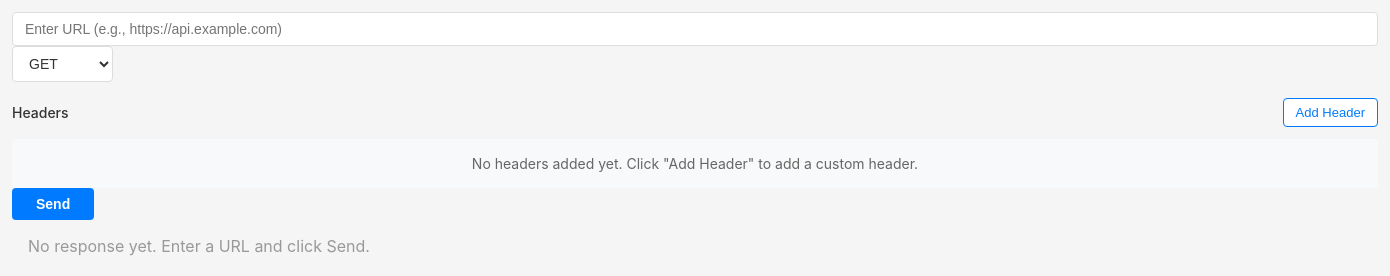
Test: Integration: Custom Headers Workflow › should complete full workflow: add Authorization header → send request → verify header in request
Note: User enters URL
Type "https://api.example.com/protected" into the field with placeholder "Enter URL (e.g., https://api.example.com)". click: [695, 29]
box: [12,12,1378,46]
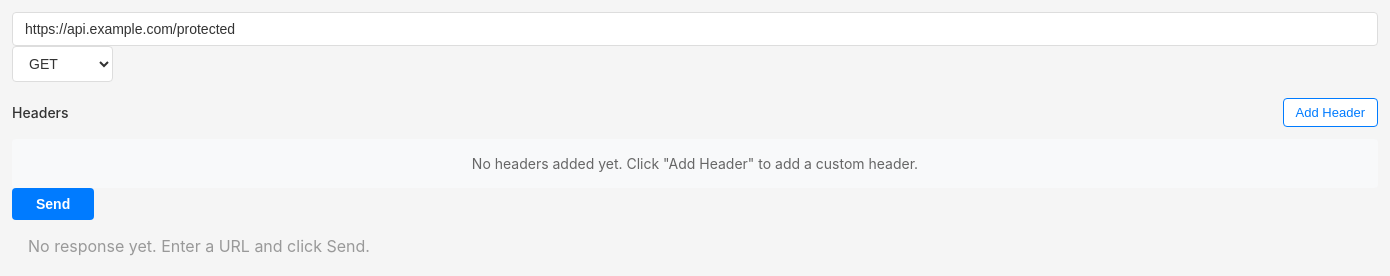
Note: User adds a header
Click the button "Add Header". click: [1330, 112]
box: [1283,98,1378,127]
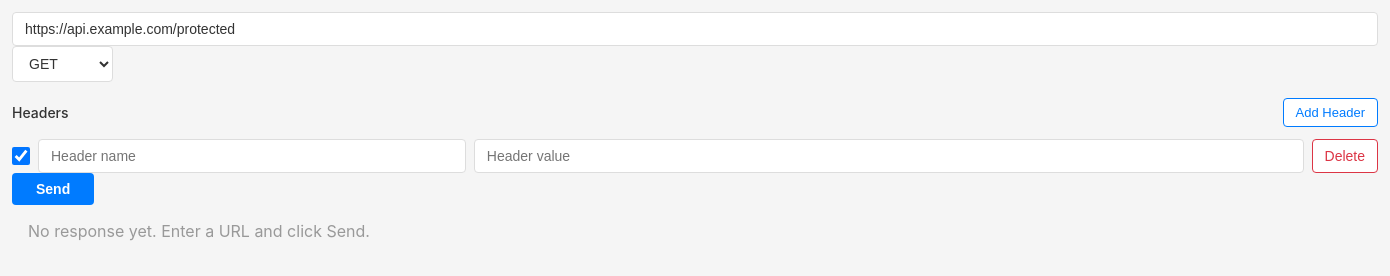
Check: the field with placeholder "Header name" is shown
Type "Authorization" into the field with placeholder "Header name". click: [252, 156]
box: [38,139,466,173]
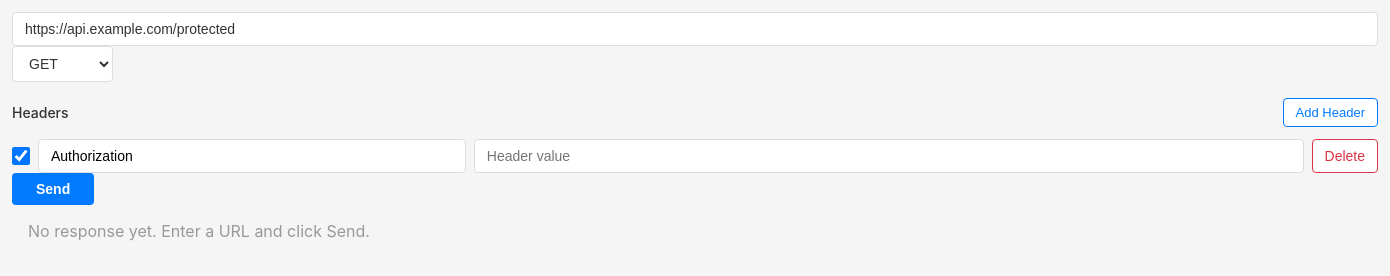
Type "Bearer token123" into the field with placeholder "Header value". click: [889, 156]
box: [474,139,1304,173]
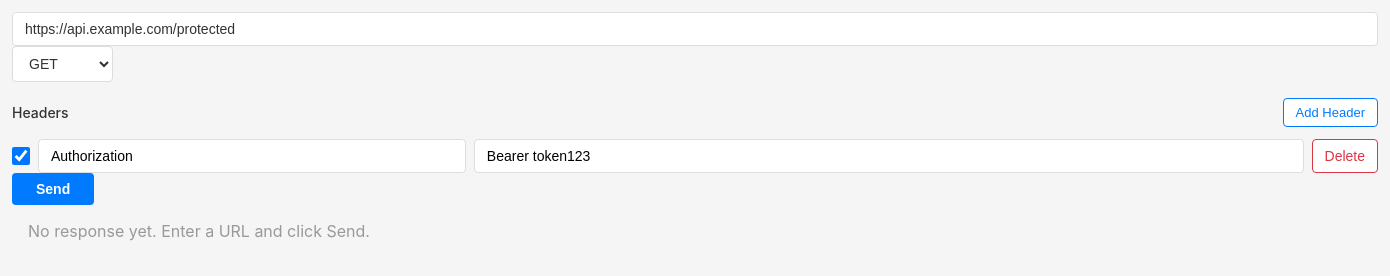
Note: User clicks Send button
Click the button "Send". click: [53, 189]
box: [12,173,94,205]
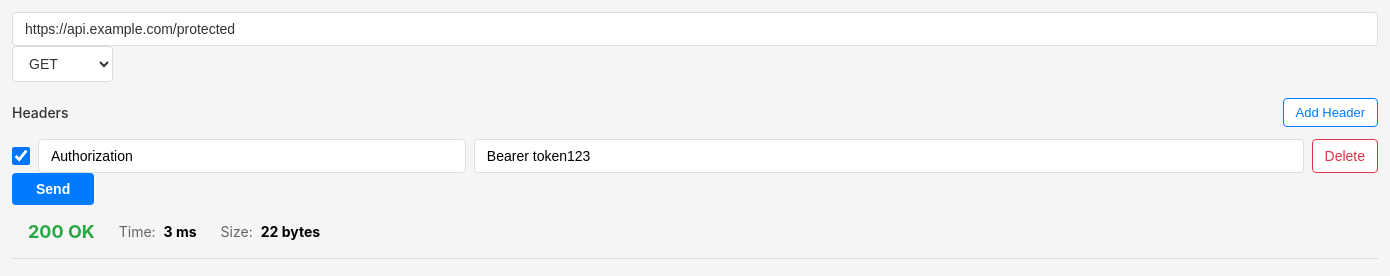
Check: the text "200 OK" is shown, box [28,221,95,242]
